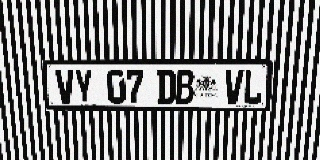0: (106, 70, 125, 104)
7: (125, 70, 144, 104)
B: (176, 69, 194, 104)
D: (157, 69, 175, 104)
L: (243, 69, 263, 104)
V: (224, 69, 244, 104), (55, 70, 75, 104)
Y: (74, 70, 94, 104)
